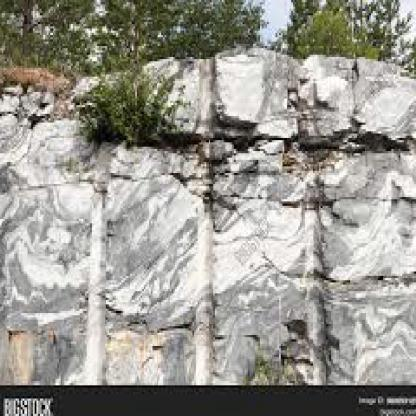Metamorphic_Marble: (2, 90, 93, 383), (210, 162, 314, 381), (106, 147, 203, 381), (322, 162, 414, 381), (298, 50, 414, 149), (199, 50, 274, 125)
